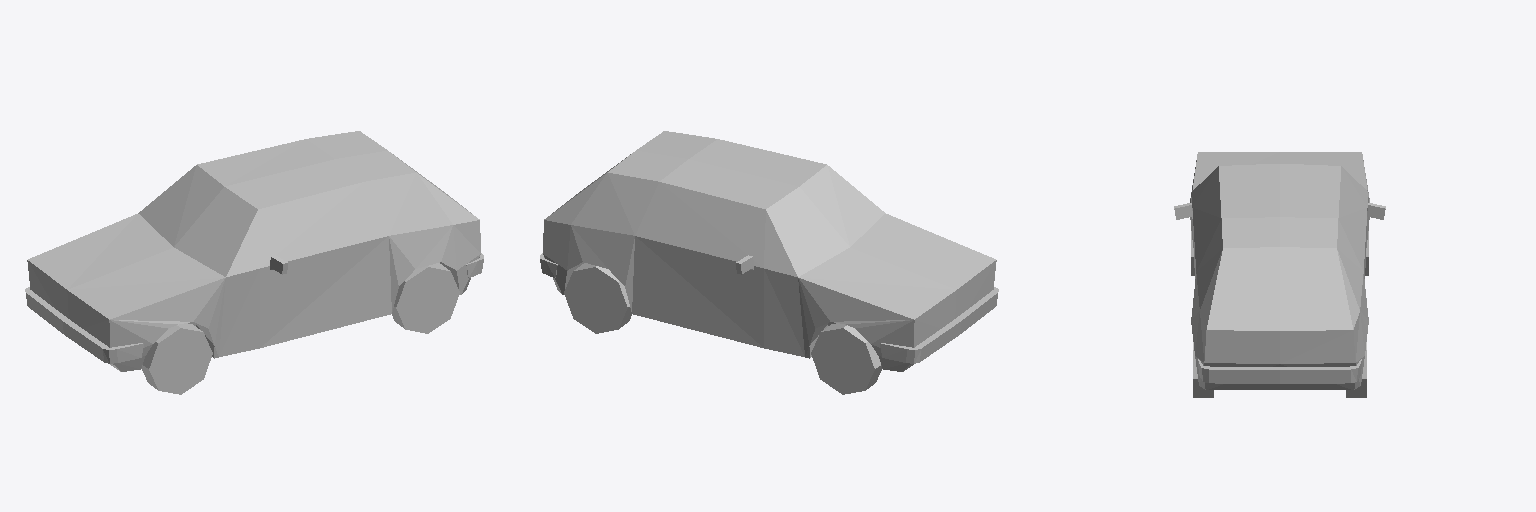
File: Car3_o2.obj
3 renders of one model, left to right at view 1: azimuth 30°, elevation 25°; view 2: azimuth 150°, elevation 25°; view 3: azimuth 270°, elevation 25°, orthographic.
Parts seen in each view (by area): view 1: Car3; view 2: Car3; view 3: Car3.
Part boxes in pixels (left/top/right/bottom): Car3: left=25, top=131, right=483, bottom=394; Car3: left=540, top=131, right=998, bottom=394; Car3: left=1174, top=152, right=1385, bottom=397.
Size of the model in its own units: 3.37 by 1.29 by 1.59.